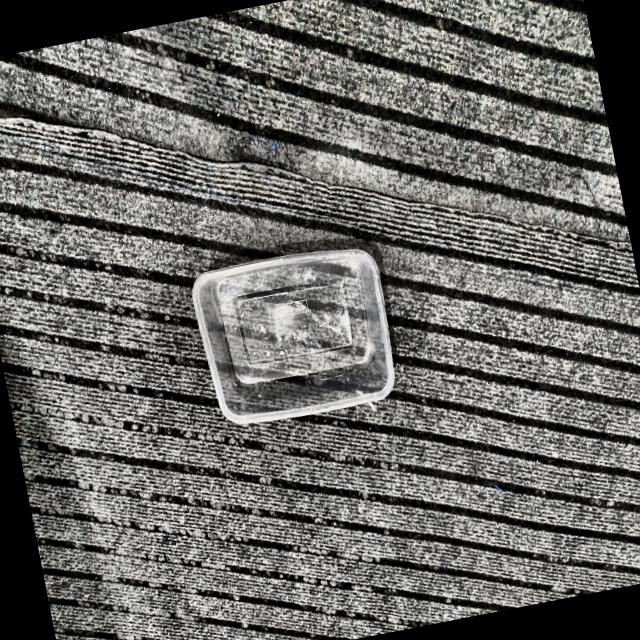plastic container: (193, 249, 395, 424)
